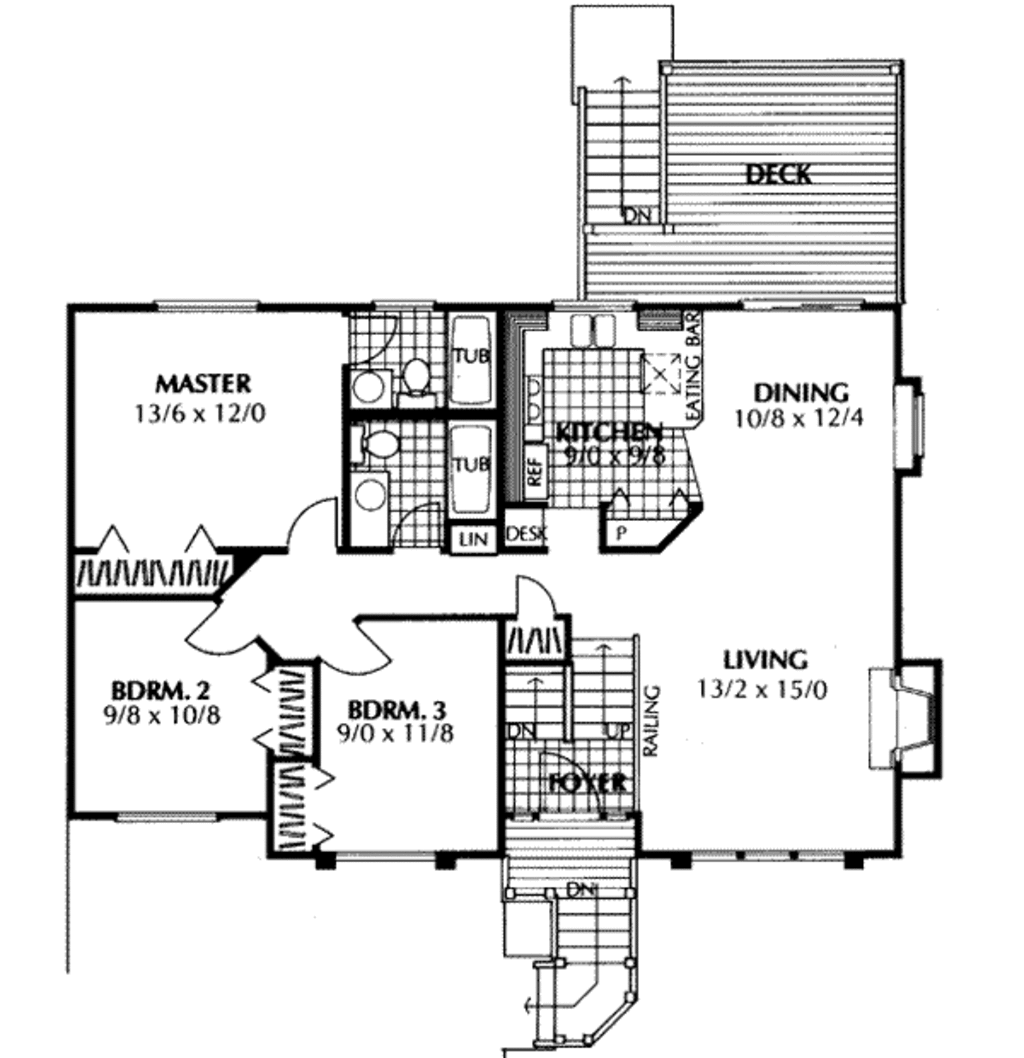door: (175, 588, 262, 672), (314, 616, 396, 688), (285, 493, 344, 551), (396, 502, 459, 552), (503, 582, 565, 625)
large_sink: (345, 423, 409, 475), (401, 356, 444, 402)
small_sink: (350, 464, 386, 549), (354, 370, 390, 408)
stairs: (511, 638, 659, 1044), (577, 3, 681, 303)
tub: (445, 310, 496, 415), (445, 415, 493, 511)
twin_sink: (567, 303, 631, 351)
window: (688, 829, 860, 874), (737, 284, 881, 325), (336, 839, 432, 867), (155, 298, 259, 318), (908, 385, 932, 465), (116, 813, 221, 829)
